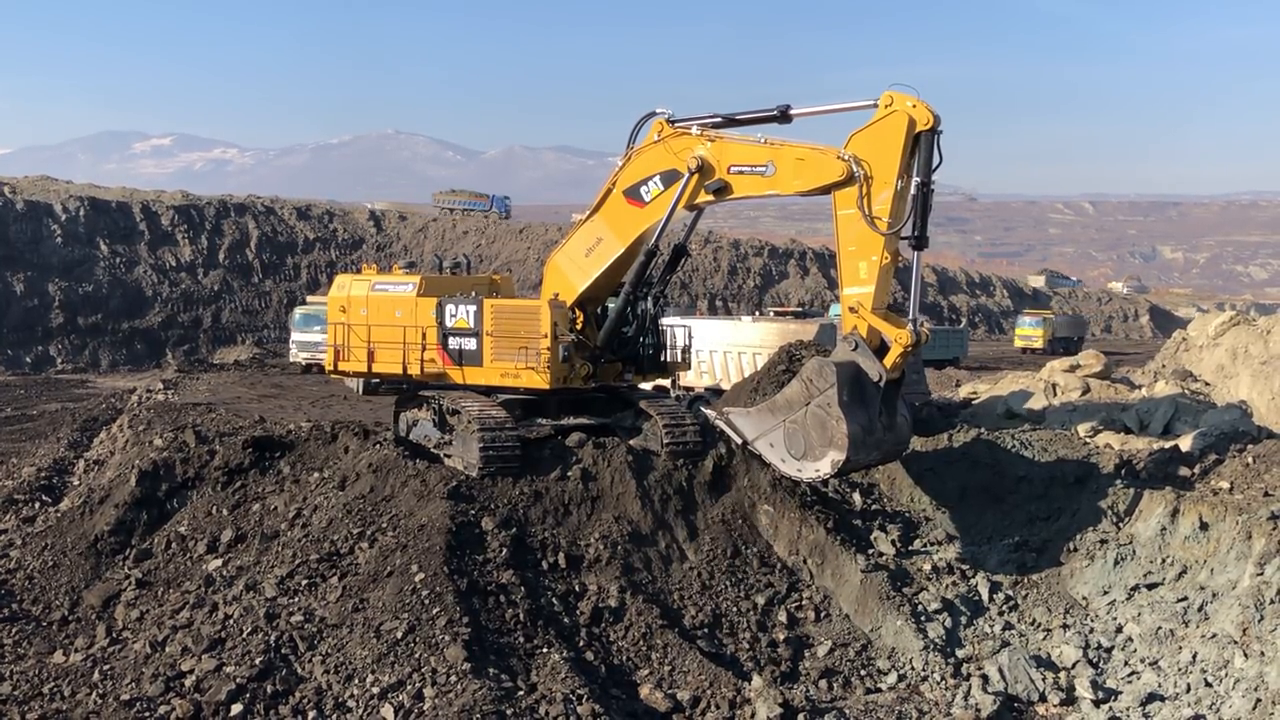full: (697, 326, 916, 485)
